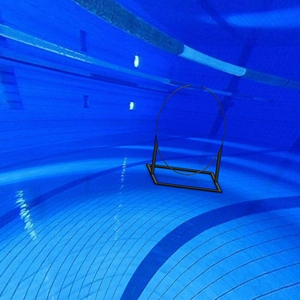circle: (146, 83, 227, 197)
